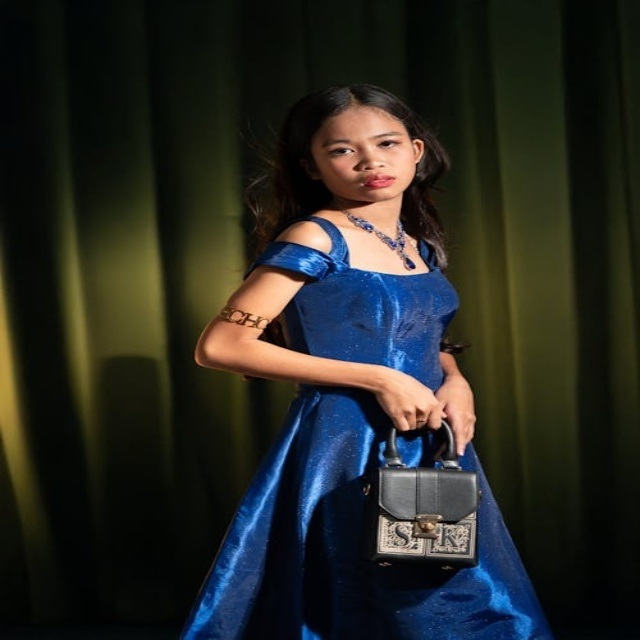Sin_gafas: (315, 129, 411, 160)
Sin_guantes: (366, 363, 449, 428), (434, 374, 480, 457)
Sin_mascara: (342, 172, 404, 197)
